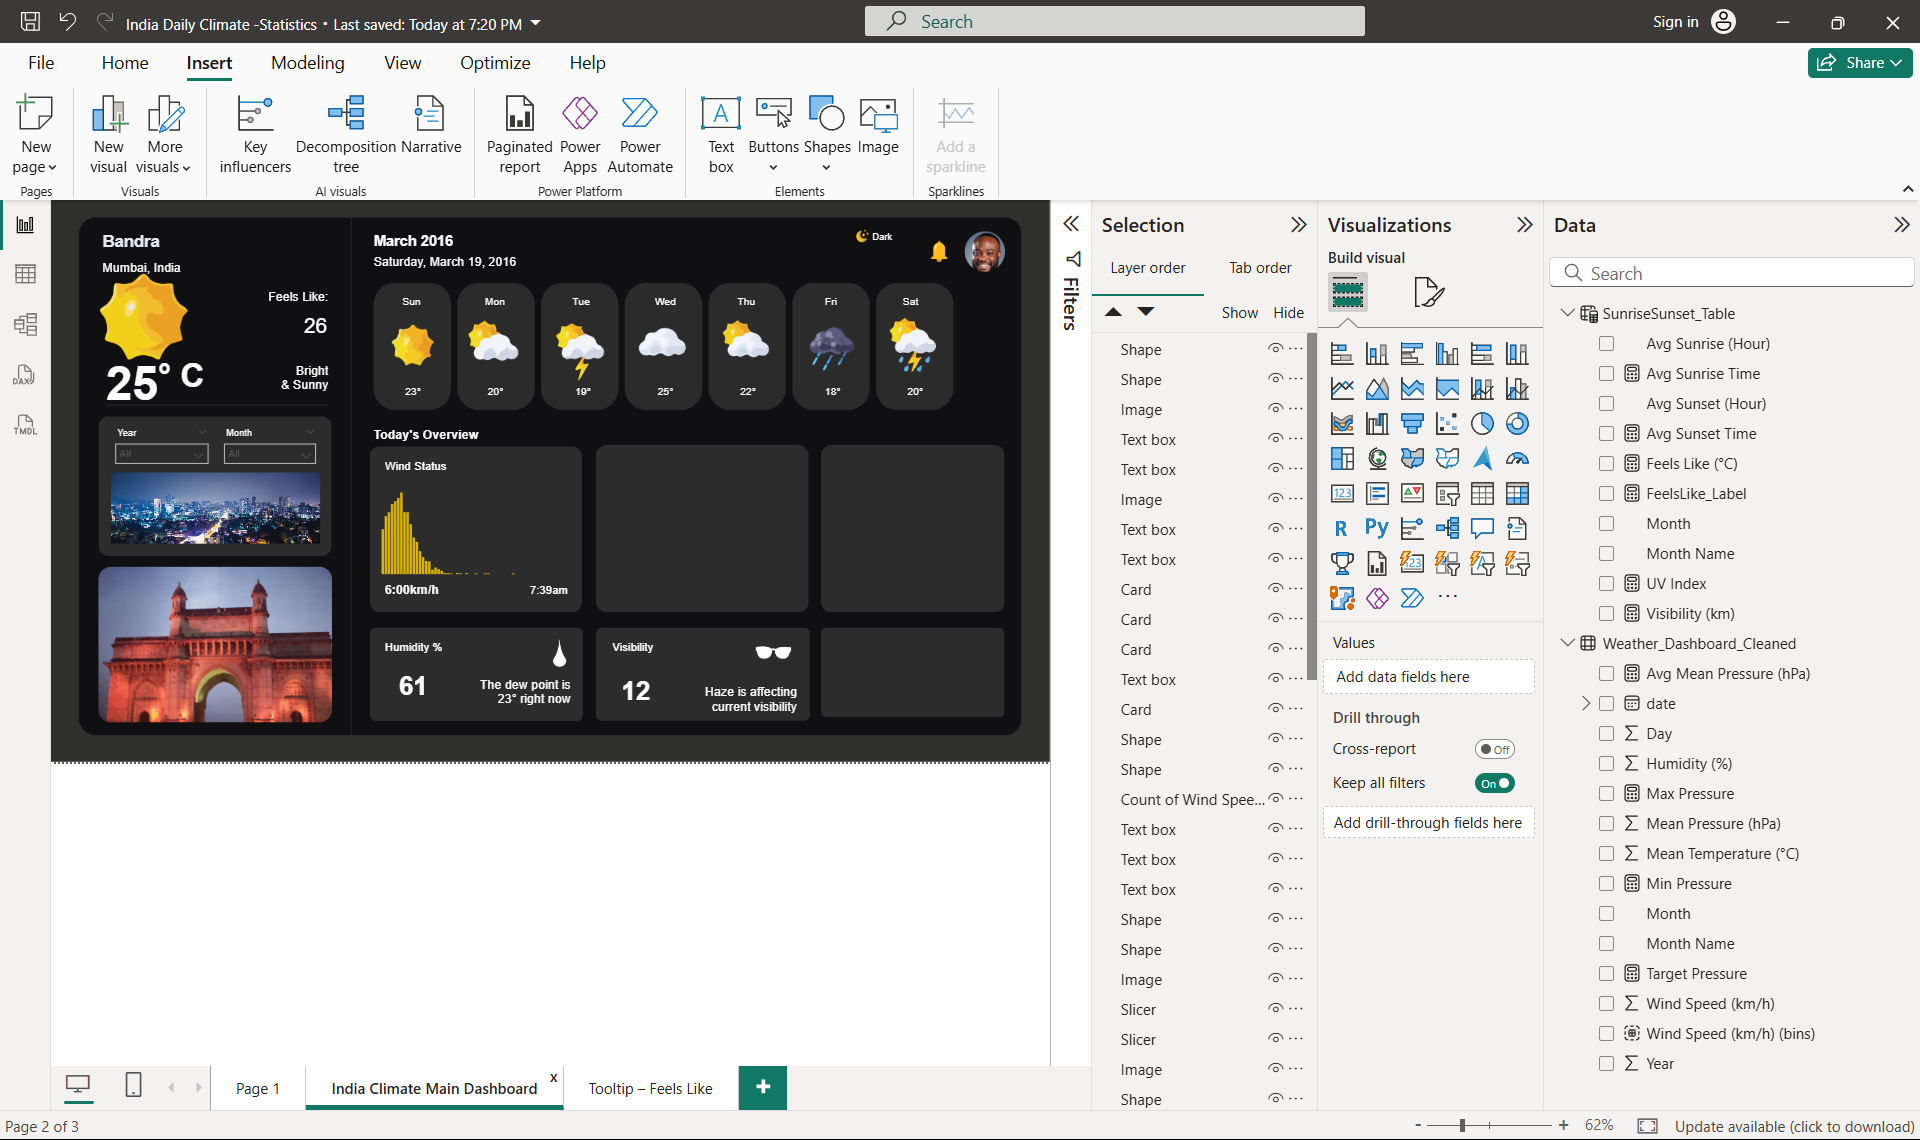

The page's visual inventory and layout, read from the dashboard file:
{"tool":"powerbi","page":{"name":"India Climate Main Dashboard","canvas":[1280,720],"ordinal":1},"visuals":[{"type":"image","box":[0,0,1280.2,719.8],"z":0},{"type":"image","box":[423.3,152.3,81.4,67.4],"z":1000},{"type":"image","box":[525.6,141.9,82.6,75.6],"z":2000},{"type":"image","box":[639.5,152.3,82.6,86],"z":3000},{"type":"image","box":[1023.3,32.6,32.6,27.9],"z":4000},{"type":"textbox","box":[1047.7,32.6,53.5,27.9],"z":5000},{"type":"image","box":[1062.8,143,87.2,87.2],"z":6000},{"type":"textbox","box":[444.7,114.6,36.8,37.9],"z":7000},{"type":"image","box":[740.7,143,87.2,74.4],"z":8000},{"type":"image","box":[961.6,153.5,77.9,76.7],"z":9000},{"type":"image","box":[56.1,86.5,125,129.8],"z":10000},{"type":"image","box":[852.3,141.9,76.7,70.9],"z":11000},{"type":"textbox","box":[445.4,230.2,37.2,33.7],"z":12000},{"type":"textbox","box":[551.2,230.2,36,33.7],"z":13000},{"type":"textbox","box":[768.6,230.2,40.7,33.7],"z":14000},{"type":"textbox","box":[662.8,230.2,38.4,33.7],"z":15000},{"type":"textbox","box":[409.3,37.2,273.3,45.3],"z":16000},{"type":"textbox","box":[61.6,37.2,273.3,46.5],"z":17000},{"type":"textbox","box":[409.3,65.1,283.7,34.9],"z":18000},{"type":"textbox","box":[61.6,73.3,112.8,41.9],"z":19000},{"type":"textbox","box":[60.9,195.4,165,105.7],"z":20000},{"type":"textbox","box":[246.5,204.7,114,46.5],"z":21000},{"type":"textbox","box":[408.1,286,273.3,30.2],"z":22000},{"type":"textbox","box":[874.4,230.2,34.9,33.7],"z":23000},{"type":"textbox","box":[986,230.2,37.2,33.7],"z":24000},{"type":"textbox","box":[551.2,115.1,36,48.8],"z":25000},{"type":"textbox","box":[662.8,115.1,38.4,39.5],"z":26000},{"type":"textbox","box":[768.6,115.1,40.7,48.8],"z":27000},{"type":"textbox","box":[874.4,115.1,43,59.3],"z":28000},{"type":"textbox","box":[986,115.1,37.2,30.2],"z":29000},{"type":"textbox","box":[1083.7,115.1,34.9,40.7],"z":30000},{"type":"textbox","box":[1093,230.2,38.4,33.7],"z":31000},{"type":"shape","box":[61.6,276.7,298.8,179.1],"z":32000},{"type":"image","box":[61.6,419.8,298.8,300],"z":33000},{"type":"slicer","fields":{"Values":["Weather_Dashboard_Cleaned.Year"]},"box":[72.1,286,139.5,58.1],"z":34000},{"type":"slicer","fields":{"Values":["SunriseSunset_Table.Month"]},"box":[211.6,286,138.4,58.1],"z":35000},{"type":"image","box":[72.1,344.2,277.9,101.2],"z":36000},{"type":"shape","box":[409.3,316.3,272.1,212.8],"z":37000},{"type":"shape","box":[409.3,547.7,273.3,119.8],"z":38000},{"type":"textbox","box":[608,485.6,62.6,33.4],"z":39000},{"type":"textbox","box":[423,485.6,143.3,33.4],"z":40000},{"type":"textbox","box":[423,327,164.2,39],"z":41000},{"type":"clusteredColumnChart","fields":{"Category":["Weather_Dashboard_Cleaned.Wind Speed (km/h) (bins)"],"Y":["CountNonNull(Weather_Dashboard_Cleaned.Wind Speed (km/h))"]},"box":[417.4,360.3,253.2,125.2],"z":42000},{"type":"shape","box":[698.4,314.4,272.7,214.3],"z":43000},{"type":"shape","box":[698.4,548.2,274.1,119.7],"z":44000},{"type":"card","fields":{"Values":["SunriseSunset_Table.Feels Like (°C)"]},"box":[303.3,139.1,57,43.1],"z":45000},{"type":"textbox","box":[256,111.3,104.3,34.8],"z":46000},{"type":"card","fields":{"Values":["Avg(Weather_Dashboard_Cleaned.Humidity (%))"]},"box":[426.1,589.5,76.9,64.1],"z":47000},{"type":"card","fields":{"Values":["Avg(Weather_Dashboard_Cleaned.Mean Temperature (°C))"]},"box":[48.1,179.4,112.1,100.9],"z":48000},{"type":"card","fields":{"Values":["SunriseSunset_Table.Visibility (km)"]},"box":[714.5,602.4,70.5,51.3],"z":49000},{"type":"textbox","box":[422.9,559.1,174.6,30.4],"z":50000},{"type":"textbox","box":[525.5,607.2,145.8,46.5],"z":51000},{"type":"image","box":[624.8,547.9,56.1,65.7],"z":52000},{"type":"textbox","box":[788.2,616.8,173,46.5],"z":53000},{"type":"textbox","box":[714.5,559.1,121.8,43.3],"z":54000},{"type":"image","box":[874.7,552.7,102.5,57.7],"z":55000},{"type":"shape","box":[986.8,314,235.5,214.7],"z":56000},{"type":"shape","box":[986.8,547.9,235.5,115.3],"z":57000},{"type":"gauge","fields":{"Y":["SunriseSunset_Table.UV Index"]},"box":[711.3,360.5,246.7,142.6],"z":58000},{"type":"textbox","box":[711.3,326.8,125,33.6],"z":59000},{"type":"textbox","box":[736.9,490.2,195.4,28.8],"z":60000},{"type":"gauge","fields":{"Y":["Weather_Dashboard_Cleaned.Avg Mean Pressure (hPa)"],"MinValue":["Weather_Dashboard_Cleaned.Min Pressure"],"MaxValue":["Weather_Dashboard_Cleaned.Max Pressure"],"TargetValue":["Weather_Dashboard_Cleaned.Target Pressure"]},"box":[996.2,569.6,213.9,89.9],"z":61000},{"type":"textbox","box":[1000,559.5,210.1,30.4],"z":61001},{"type":"image","box":[910.1,322.8,48.1,63.3],"z":61002},{"type":"image","box":[617.7,326.6,51.9,55.7],"z":61003},{"type":"image","box":[1170.9,558.2,51.9,44.3],"z":61004},{"type":"card","fields":{"Values":["SunriseSunset_Table.Avg Sunset Time"]},"box":[1092.4,455.7,119,43],"z":61006},{"type":"image","box":[989.9,322.8,93.7,72.2],"z":61007},{"type":"card","fields":{"Values":["SunriseSunset_Table.Avg Sunrise Time"]},"box":[1083.5,335.4,126.6,38],"z":61008},{"type":"textbox","box":[1096.2,365.8,108.9,31.6],"z":61009},{"type":"textbox","box":[1096.2,486.1,119,38],"z":61010},{"type":"image","box":[1003.8,460.8,65.8,58.2],"z":61011}]}

Visuals, with their boxes on the page's 1280x720 design canvas (x1, y1, x2, y2). These are canvas units, not pixel positions in the 1920x1140 screenshot, which may show the page scaled, cropped or inside an application window:
image: [x1=0, y1=0, x2=1280, y2=720]
image: [x1=423, y1=152, x2=505, y2=220]
image: [x1=526, y1=142, x2=608, y2=218]
image: [x1=640, y1=152, x2=722, y2=238]
image: [x1=1023, y1=33, x2=1056, y2=60]
textbox: [x1=1048, y1=33, x2=1101, y2=60]
image: [x1=1063, y1=143, x2=1150, y2=230]
textbox: [x1=445, y1=115, x2=482, y2=152]
image: [x1=741, y1=143, x2=828, y2=217]
image: [x1=962, y1=154, x2=1040, y2=230]
image: [x1=56, y1=86, x2=181, y2=216]
image: [x1=852, y1=142, x2=929, y2=213]
textbox: [x1=445, y1=230, x2=483, y2=264]
textbox: [x1=551, y1=230, x2=587, y2=264]
textbox: [x1=769, y1=230, x2=809, y2=264]
textbox: [x1=663, y1=230, x2=701, y2=264]
textbox: [x1=409, y1=37, x2=683, y2=82]
textbox: [x1=62, y1=37, x2=335, y2=84]
textbox: [x1=409, y1=65, x2=693, y2=100]
textbox: [x1=62, y1=73, x2=174, y2=115]
textbox: [x1=61, y1=195, x2=226, y2=301]
textbox: [x1=246, y1=205, x2=360, y2=251]
textbox: [x1=408, y1=286, x2=681, y2=316]
textbox: [x1=874, y1=230, x2=909, y2=264]
textbox: [x1=986, y1=230, x2=1023, y2=264]
textbox: [x1=551, y1=115, x2=587, y2=164]
textbox: [x1=663, y1=115, x2=701, y2=155]
textbox: [x1=769, y1=115, x2=809, y2=164]
textbox: [x1=874, y1=115, x2=917, y2=174]
textbox: [x1=986, y1=115, x2=1023, y2=145]
textbox: [x1=1084, y1=115, x2=1119, y2=156]
textbox: [x1=1093, y1=230, x2=1131, y2=264]
shape: [x1=62, y1=277, x2=360, y2=456]
image: [x1=62, y1=420, x2=360, y2=720]
slicer - Weather_Dashboard_Cleaned.Year: [x1=72, y1=286, x2=212, y2=344]
slicer - SunriseSunset_Table.Month: [x1=212, y1=286, x2=350, y2=344]
image: [x1=72, y1=344, x2=350, y2=445]
shape: [x1=409, y1=316, x2=681, y2=529]
shape: [x1=409, y1=548, x2=683, y2=668]
textbox: [x1=608, y1=486, x2=671, y2=519]
textbox: [x1=423, y1=486, x2=566, y2=519]
textbox: [x1=423, y1=327, x2=587, y2=366]
clusteredColumnChart - Weather_Dashboard_Cleaned.Wind Speed (km/h) (bins) x CountNonNull(Weather_Dashboard_Cleaned.Wind Speed (km/h)): [x1=417, y1=360, x2=671, y2=486]
shape: [x1=698, y1=314, x2=971, y2=529]
shape: [x1=698, y1=548, x2=972, y2=668]
card - SunriseSunset_Table.Feels Like (°C): [x1=303, y1=139, x2=360, y2=182]
textbox: [x1=256, y1=111, x2=360, y2=146]
card - Avg(Weather_Dashboard_Cleaned.Humidity (%)): [x1=426, y1=590, x2=503, y2=654]
card - Avg(Weather_Dashboard_Cleaned.Mean Temperature (°C)): [x1=48, y1=179, x2=160, y2=280]
card - SunriseSunset_Table.Visibility (km): [x1=714, y1=602, x2=785, y2=654]
textbox: [x1=423, y1=559, x2=598, y2=590]
textbox: [x1=526, y1=607, x2=671, y2=654]
image: [x1=625, y1=548, x2=681, y2=614]
textbox: [x1=788, y1=617, x2=961, y2=663]
textbox: [x1=714, y1=559, x2=836, y2=602]
image: [x1=875, y1=553, x2=977, y2=610]
shape: [x1=987, y1=314, x2=1222, y2=529]
shape: [x1=987, y1=548, x2=1222, y2=663]
gauge - SunriseSunset_Table.UV Index: [x1=711, y1=360, x2=958, y2=503]
textbox: [x1=711, y1=327, x2=836, y2=360]
textbox: [x1=737, y1=490, x2=932, y2=519]
gauge - Weather_Dashboard_Cleaned.Avg Mean Pressure (hPa) x Weather_Dashboard_Cleaned.Min Pressure: [x1=996, y1=570, x2=1210, y2=660]
textbox: [x1=1000, y1=560, x2=1210, y2=590]
image: [x1=910, y1=323, x2=958, y2=386]
image: [x1=618, y1=327, x2=670, y2=382]
image: [x1=1171, y1=558, x2=1223, y2=602]
card - SunriseSunset_Table.Avg Sunset Time: [x1=1092, y1=456, x2=1211, y2=499]
image: [x1=990, y1=323, x2=1084, y2=395]
card - SunriseSunset_Table.Avg Sunrise Time: [x1=1084, y1=335, x2=1210, y2=373]
textbox: [x1=1096, y1=366, x2=1205, y2=397]
textbox: [x1=1096, y1=486, x2=1215, y2=524]
image: [x1=1004, y1=461, x2=1070, y2=519]
